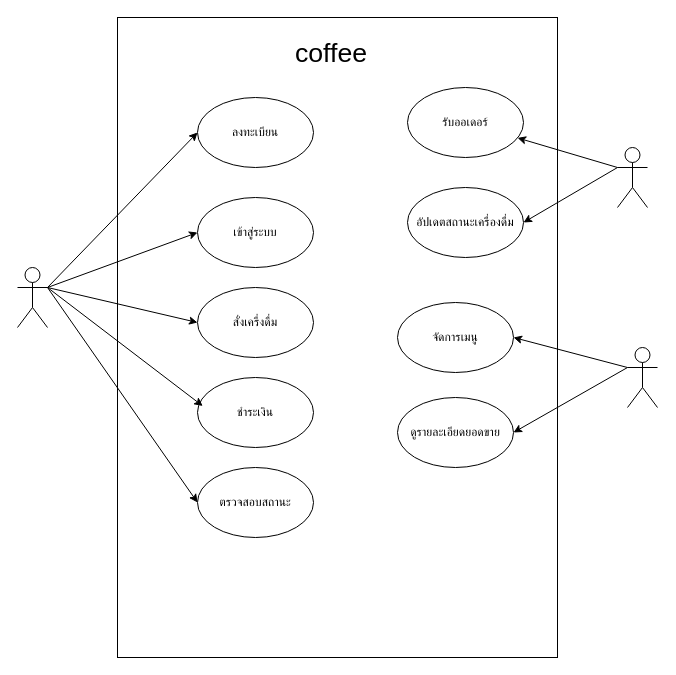
The diagram is 676 pixels wide and 675 high, and some of its shapes have lost their labels. Here are the shapes that lost their labels. From the top down, the centre of each, then its label:
(x=632, y=177): พนักงาน
(x=32, y=297): ลูกค้า
(x=642, y=377): แอดมิน
